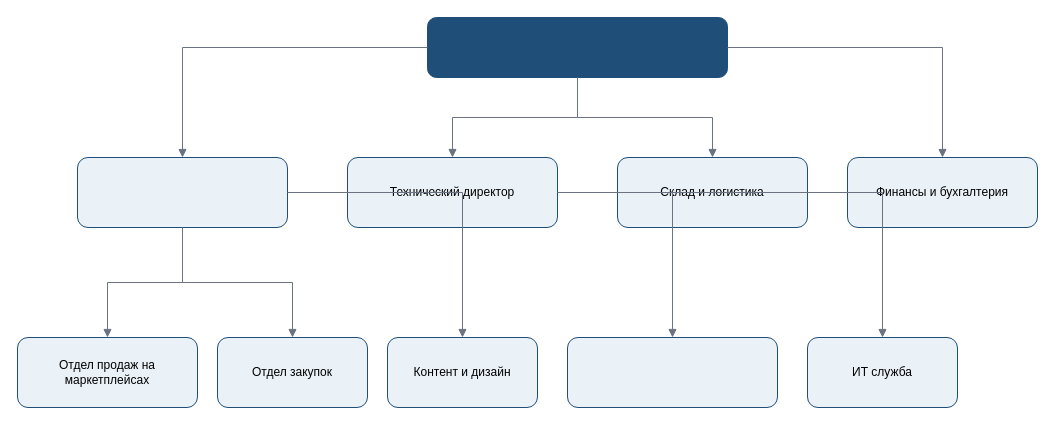
Image size: 1055x425. Some labels were removed from this diagram. The shapes that lost their labels are listed below. From the top down, each one's centre as x and y in pixels, then its label:
(x=577, y=47): Генеральный директор
(x=182, y=192): Коммерческий директор
(x=672, y=372): Группа конфигурации и совместимости
